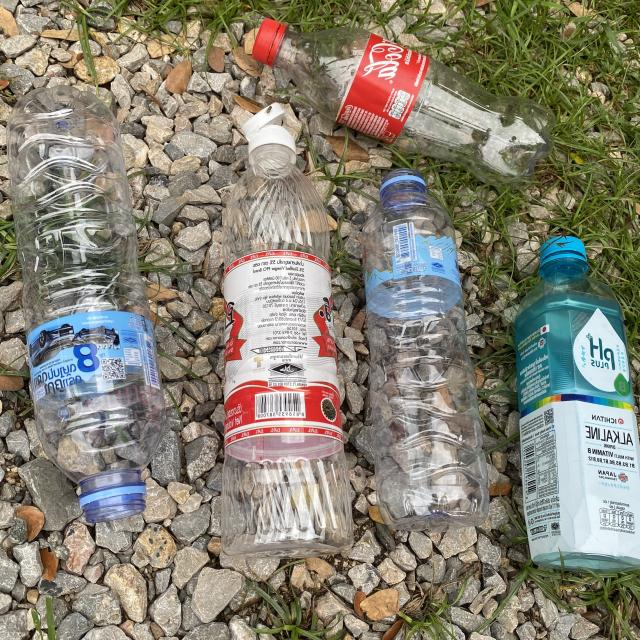plastik: (7, 86, 164, 522), (222, 102, 354, 557), (252, 19, 554, 188), (362, 169, 488, 530), (515, 236, 640, 573)
